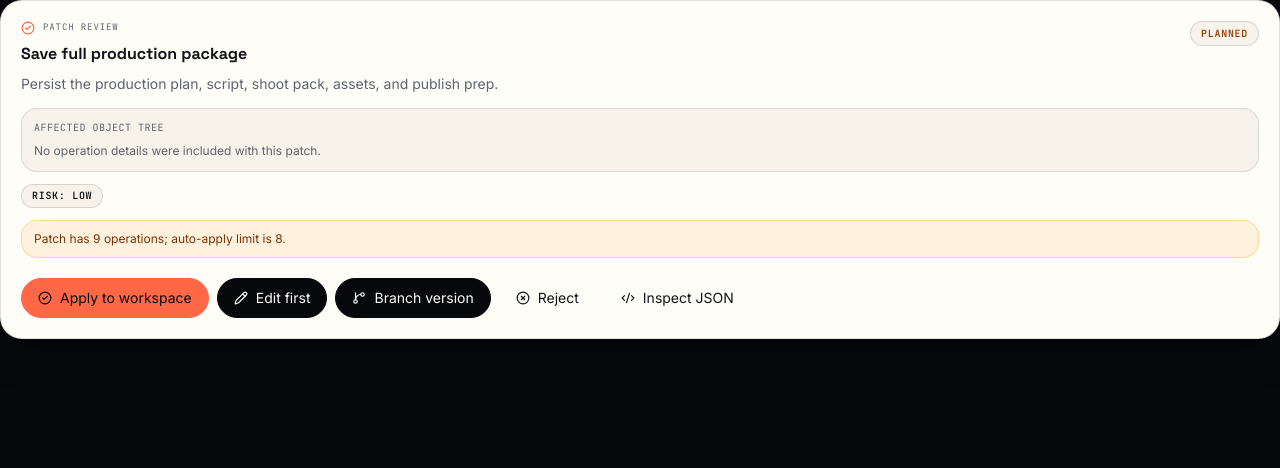
Test: PatchPreviewCard › apply renders returned operations even when the local preview was empty
Click the button "Apply to workspace" at (115,298), box [21,278,209,318]
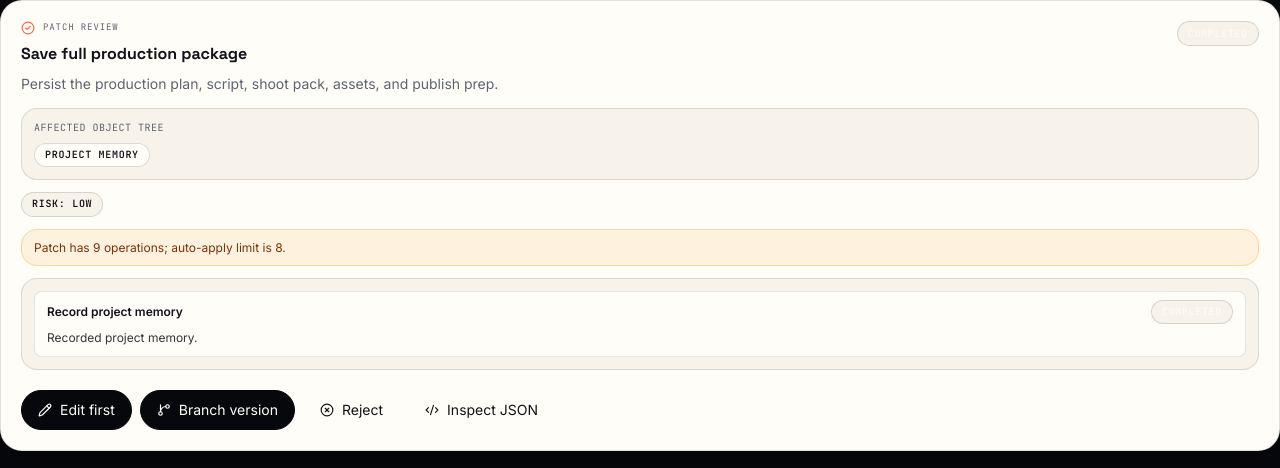
Expected: the text "Record project memory" is shown, [47,304,183,320]
Expected: the text "Recorded project memory." is shown, [47,330,198,345]
